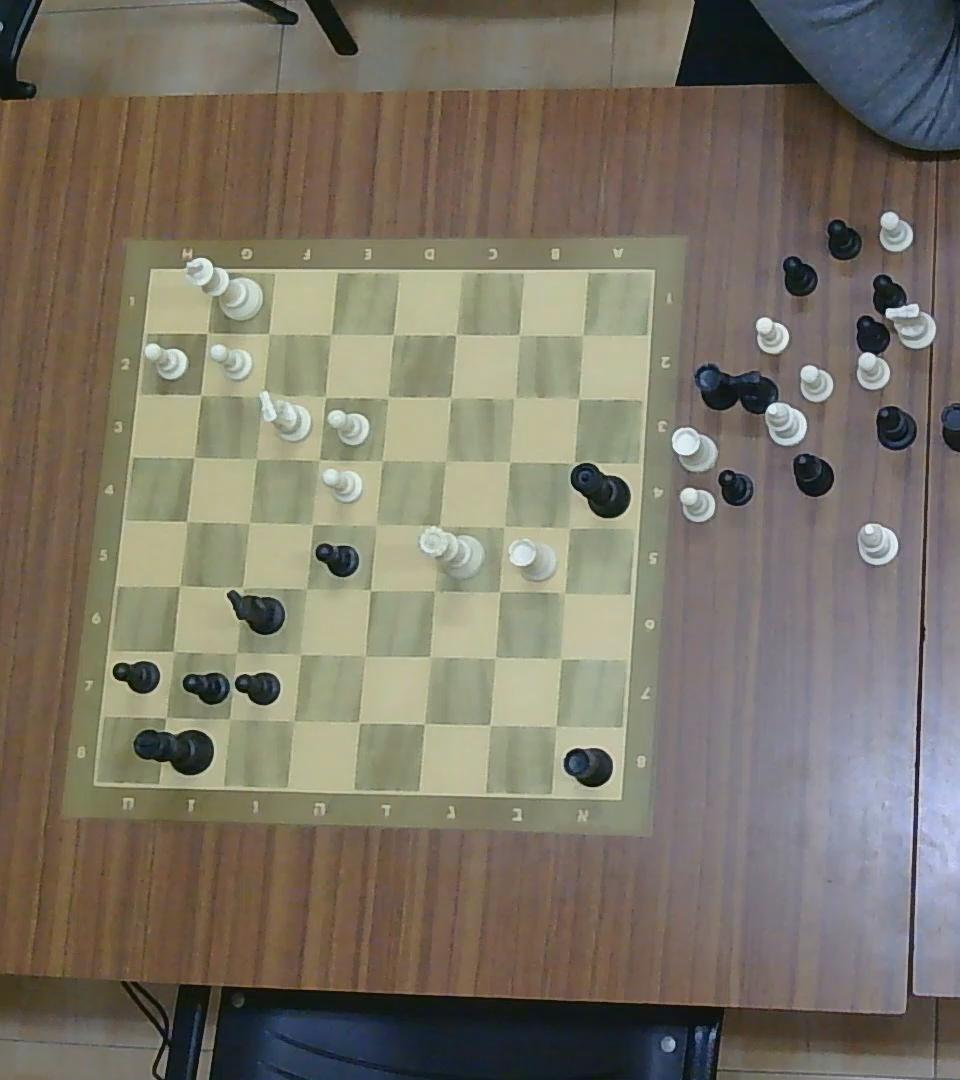xcorner: (215, 705, 241, 732), (279, 707, 305, 734), (411, 710, 437, 737), (417, 642, 443, 669), (153, 703, 179, 730), (547, 644, 573, 671), (543, 712, 569, 738), (477, 712, 503, 738), (352, 641, 377, 668), (486, 578, 511, 605), (167, 572, 192, 598), (425, 513, 450, 539), (287, 639, 311, 666), (358, 575, 382, 602), (379, 321, 404, 346), (346, 709, 371, 734), (551, 579, 576, 604), (481, 645, 506, 670), (558, 448, 583, 473), (375, 383, 399, 409), (368, 447, 392, 473), (491, 513, 515, 539), (421, 577, 445, 603), (223, 640, 247, 665), (174, 507, 198, 532), (557, 515, 581, 540), (294, 576, 318, 601), (229, 574, 253, 599), (196, 319, 219, 345), (162, 638, 185, 664), (188, 381, 212, 405), (438, 385, 461, 410), (318, 321, 341, 346), (236, 510, 259, 535), (497, 448, 520, 473), (444, 321, 467, 346), (300, 512, 323, 536), (364, 512, 387, 536), (257, 320, 280, 344), (250, 381, 273, 405), (570, 322, 594, 345), (306, 447, 329, 470), (182, 445, 204, 469), (433, 448, 455, 472), (313, 384, 335, 408), (245, 447, 267, 470), (508, 322, 530, 345), (503, 386, 524, 409), (567, 387, 588, 409)
